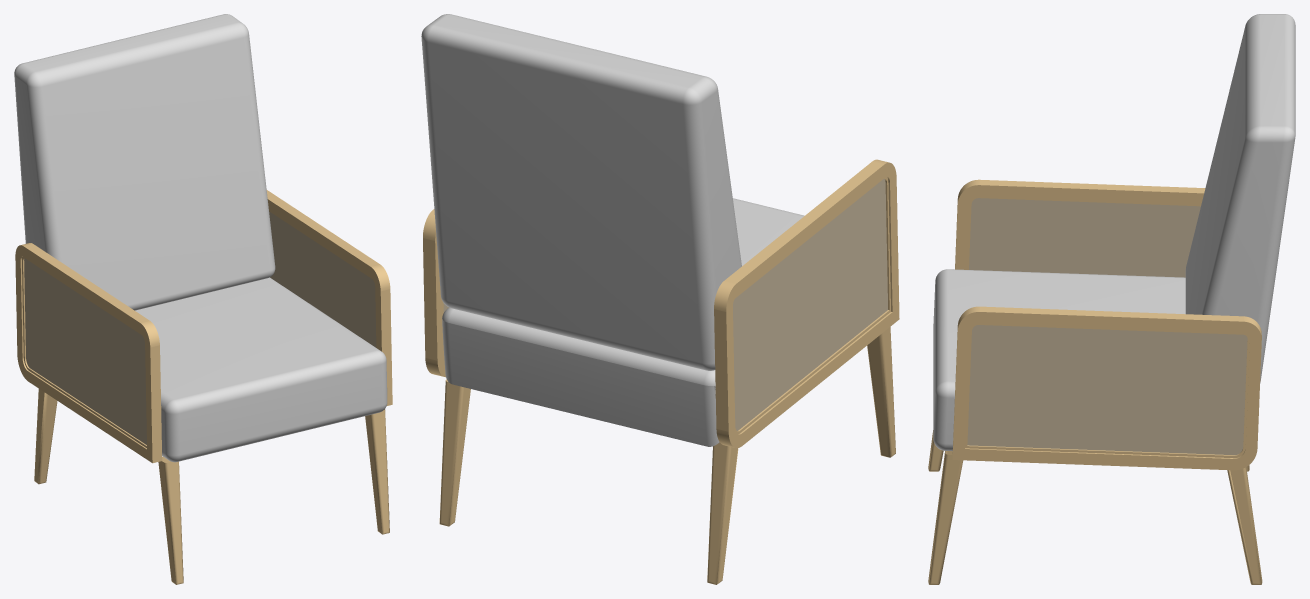
The model's file is chair.glb.
3 views of the same model, side by side, from view 1: azimuth 30°, elevation 25°; view 2: azimuth 150°, elevation 25°; view 3: azimuth 270°, elevation 25° (orthographic). The views are drawn at different scales.
Visible parts, largest first — view 1: Mesh2_Burlap_Fabric_1140_0, Mesh1_Burlap_Fabric_1140_0, Mesh6_Color_A01_0, Mesh11_Color_A01_0, Mesh5_Ash_730_0, Mesh9_Ash_730_0, Mesh4_Ash_730_0, Mesh8_Ash_730_0, Mesh3_Ash_730_0, Mesh6_Ash_730_0; view 2: Mesh2_Burlap_Fabric_1140_0, Mesh1_Burlap_Fabric_1140_0, Mesh6_Color_A01_0, Mesh5_Ash_730_0, Mesh12_Ash_730_0, Mesh3_Ash_730_0, Mesh9_Ash_730_0, Mesh4_Ash_730_0, Mesh6_Ash_730_0; view 3: Mesh10_Color_A01_0, Mesh2_Burlap_Fabric_1140_0, Mesh7_Color_A01_0, Mesh1_Burlap_Fabric_1140_0, Mesh9_Ash_730_0, Mesh5_Ash_730_0, Mesh10_Ash_730_0, Mesh8_Ash_730_0, Mesh12_Ash_730_0, Mesh7_Ash_730_0.
Boxes of the visible parts, box(x1,y1,x2,y2) form: Mesh2_Burlap_Fabric_1140_0: box(14, 14, 275, 310); Mesh1_Burlap_Fabric_1140_0: box(135, 277, 387, 462); Mesh6_Color_A01_0: box(24, 258, 146, 444); Mesh11_Color_A01_0: box(269, 211, 376, 347); Mesh5_Ash_730_0: box(15, 243, 162, 463); Mesh9_Ash_730_0: box(266, 190, 392, 405); Mesh4_Ash_730_0: box(158, 456, 183, 584); Mesh8_Ash_730_0: box(365, 409, 389, 534); Mesh3_Ash_730_0: box(34, 389, 57, 484); Mesh6_Ash_730_0: box(22, 256, 146, 447); Mesh2_Burlap_Fabric_1140_0: box(421, 14, 741, 370); Mesh1_Burlap_Fabric_1140_0: box(442, 198, 804, 446); Mesh6_Color_A01_0: box(733, 179, 887, 430); Mesh5_Ash_730_0: box(714, 159, 899, 448); Mesh12_Ash_730_0: box(439, 379, 470, 526); Mesh3_Ash_730_0: box(707, 442, 738, 584); Mesh9_Ash_730_0: box(423, 209, 445, 377); Mesh4_Ash_730_0: box(867, 327, 895, 457); Mesh6_Ash_730_0: box(735, 176, 890, 433); Mesh10_Color_A01_0: box(967, 325, 1247, 455); Mesh2_Burlap_Fabric_1140_0: box(1185, 14, 1295, 383); Mesh7_Color_A01_0: box(969, 198, 1200, 277); Mesh1_Burlap_Fabric_1140_0: box(933, 269, 1185, 451); Mesh9_Ash_730_0: box(952, 306, 1261, 470); Mesh5_Ash_730_0: box(955, 179, 1205, 269); Mesh10_Ash_730_0: box(965, 323, 1249, 458); Mesh8_Ash_730_0: box(928, 451, 963, 584); Mesh12_Ash_730_0: box(1227, 467, 1262, 584); Mesh7_Ash_730_0: box(967, 196, 1201, 269).
Bounding box in the file's own units: 0.248 × 0.3994 × 0.2912.
